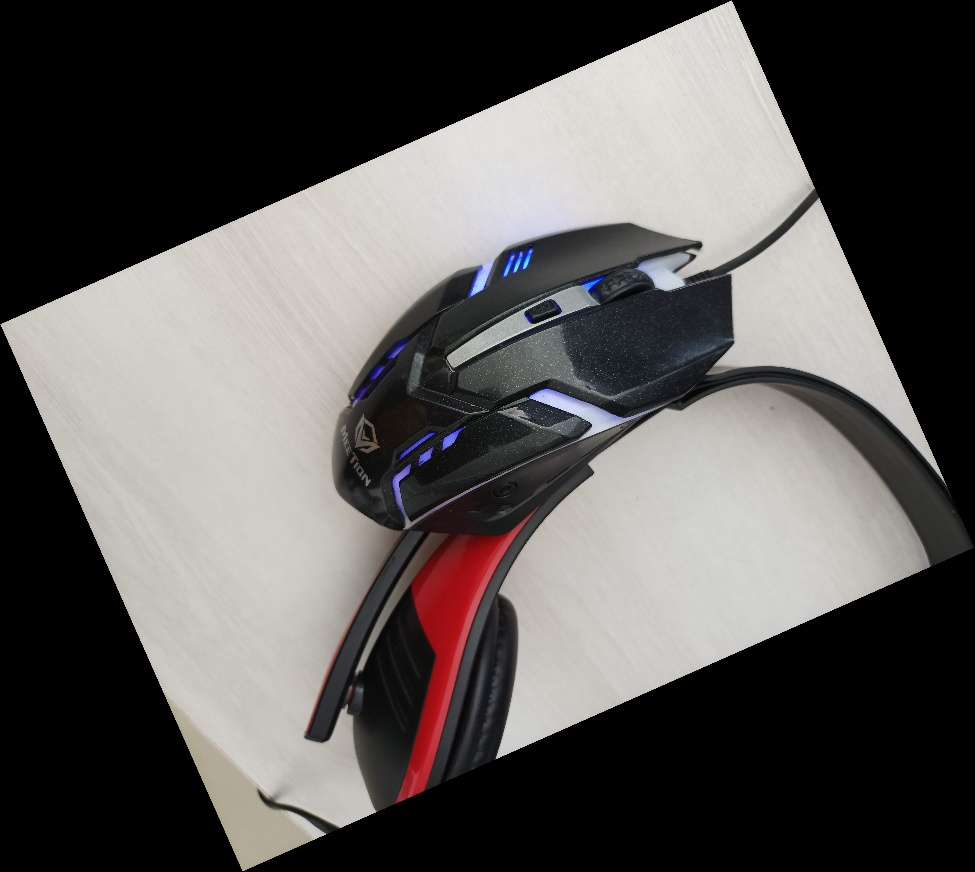mouse: (326, 217, 738, 540)
